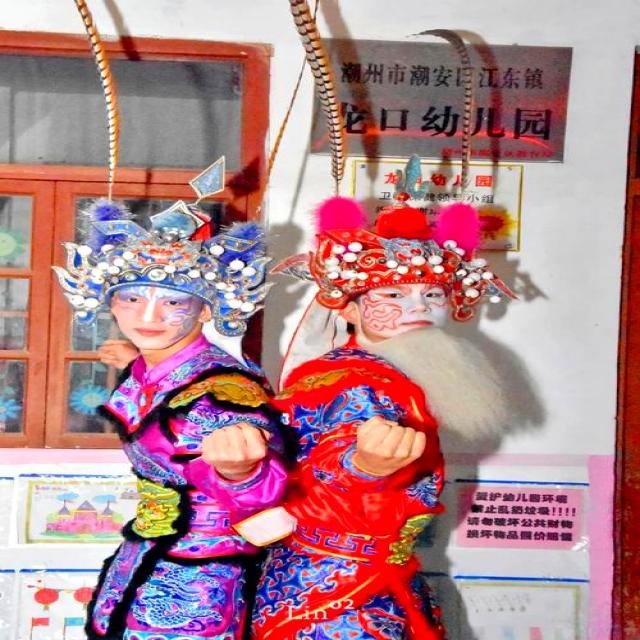Reeves-s Pheasant: (393, 21, 478, 181), (286, 0, 352, 186), (62, 0, 122, 191)
